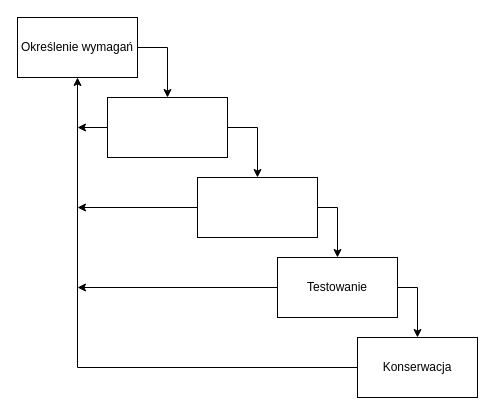
Image size: 495x415. Some labels were removed from this diagram. The shapes that lost their labels are listed below. From the top down, each one's centre as x and y in pixels, then its label:
At (167,127): "Projektowanie".
At (257,207): "Implementacja".
